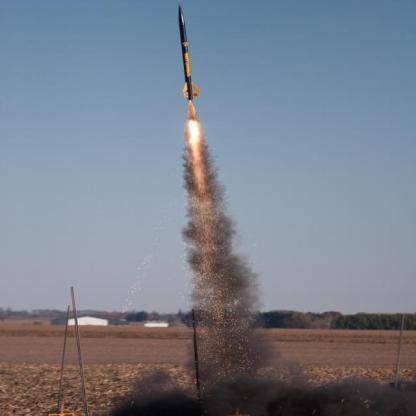MIL_TBM: (173, 5, 201, 112)
